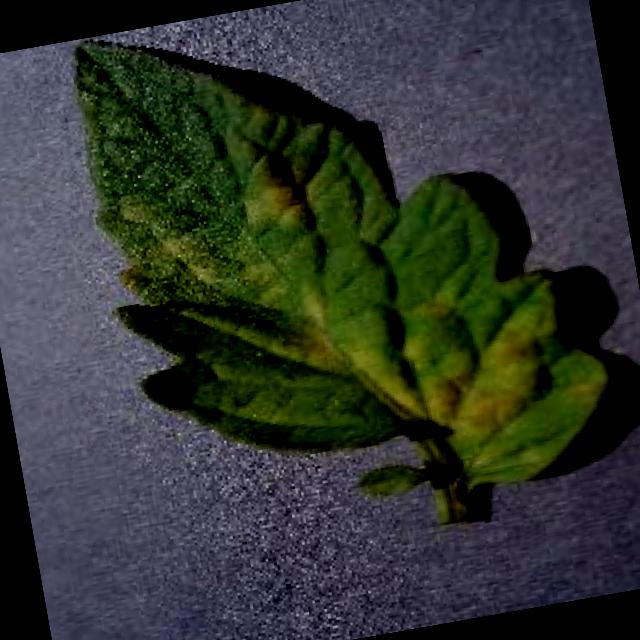leaf mold: (77, 43, 615, 519)
